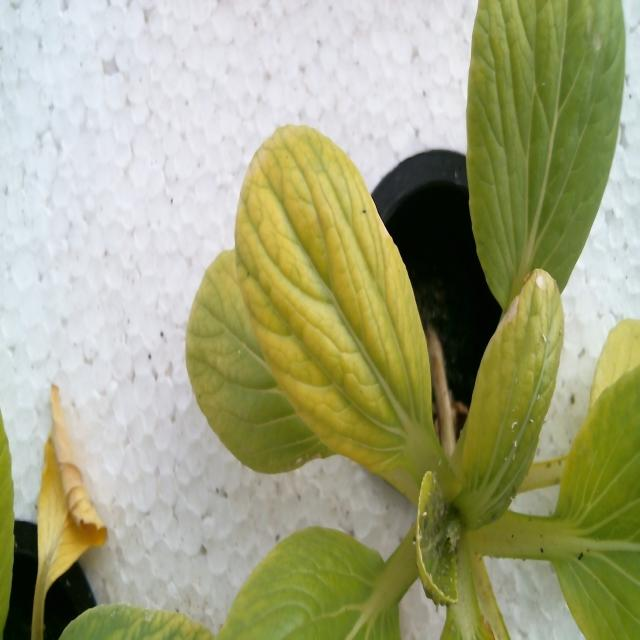pakcoy_tidak_sehat: (170, 6, 640, 640)
